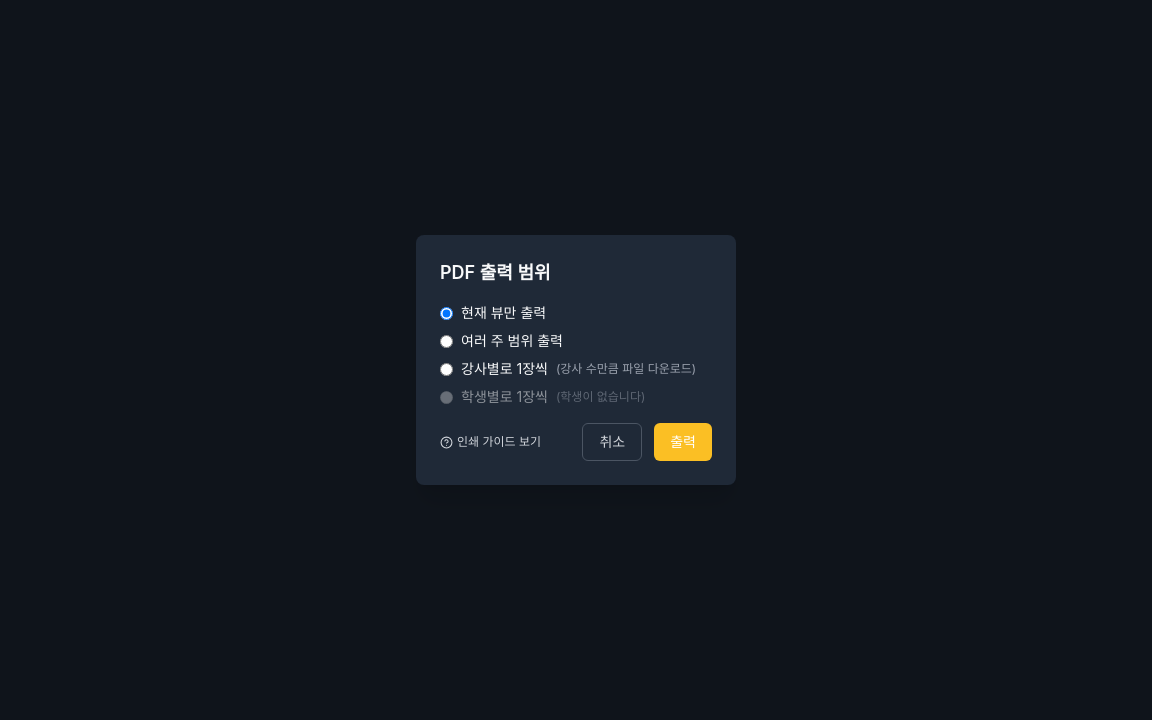
Test: PdfExportRangeModal — teacher chip selector › '강사별로 1장씩' 선택 시 강사 chip이 렌더된다
Click the radio button labelled "강사별로 1장씩": (446, 369) x1=440 y1=362 x2=453 y2=376
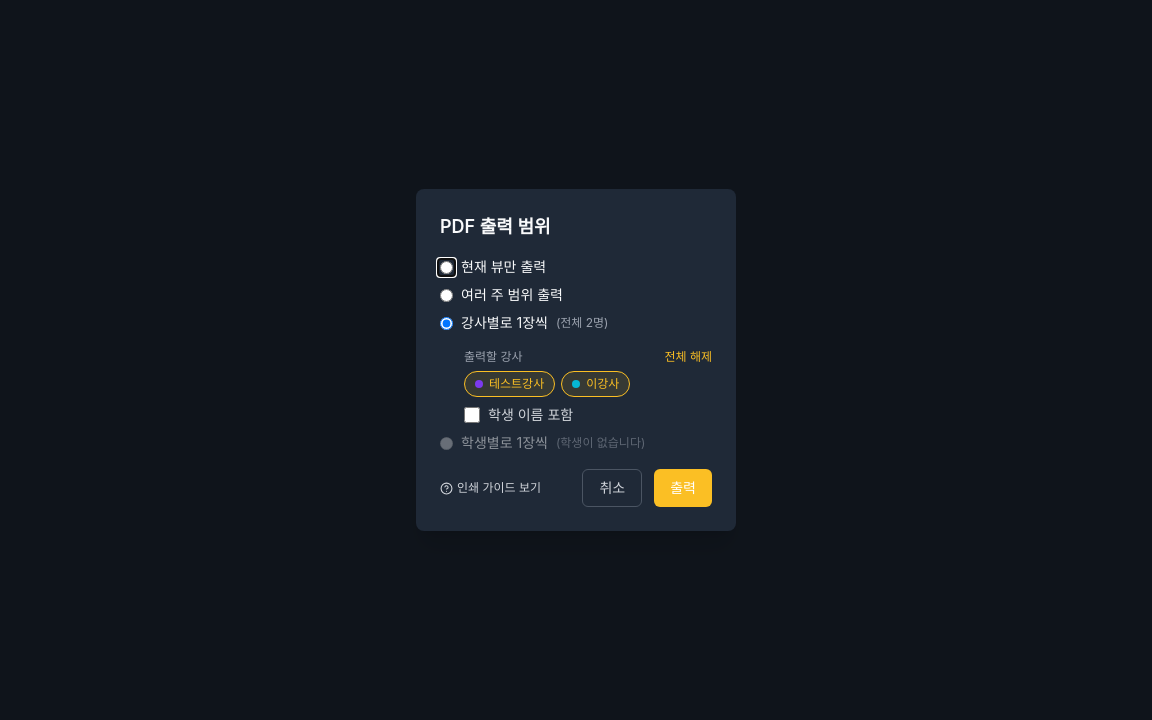
Check: the button "테스트강사" is shown, box x1=464 y1=371 x2=555 y2=397
Check: the button "이강사" is shown, box x1=561 y1=371 x2=630 y2=397
